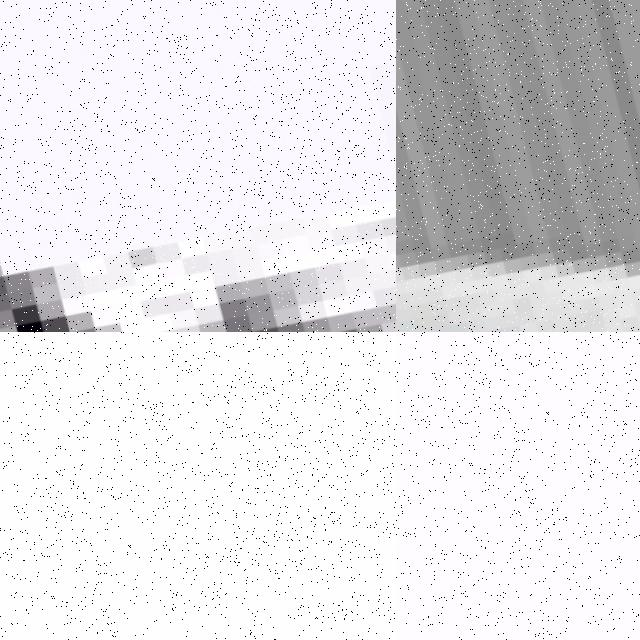0: (0, 0, 396, 332)
drone: (396, 0, 640, 332)
